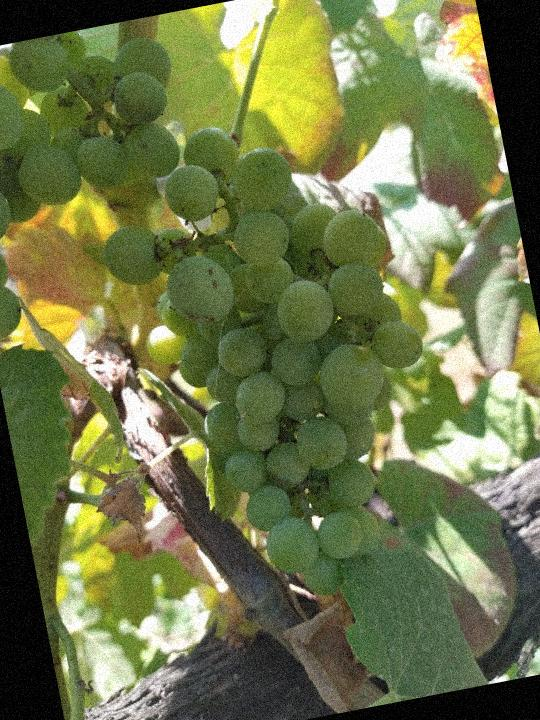grape: (79, 90, 478, 630)
